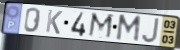0: (23, 7, 42, 34)
4: (69, 11, 87, 38)
J: (141, 17, 161, 44)
K: (44, 9, 64, 36)
M: (86, 11, 115, 41), (115, 14, 143, 44)
